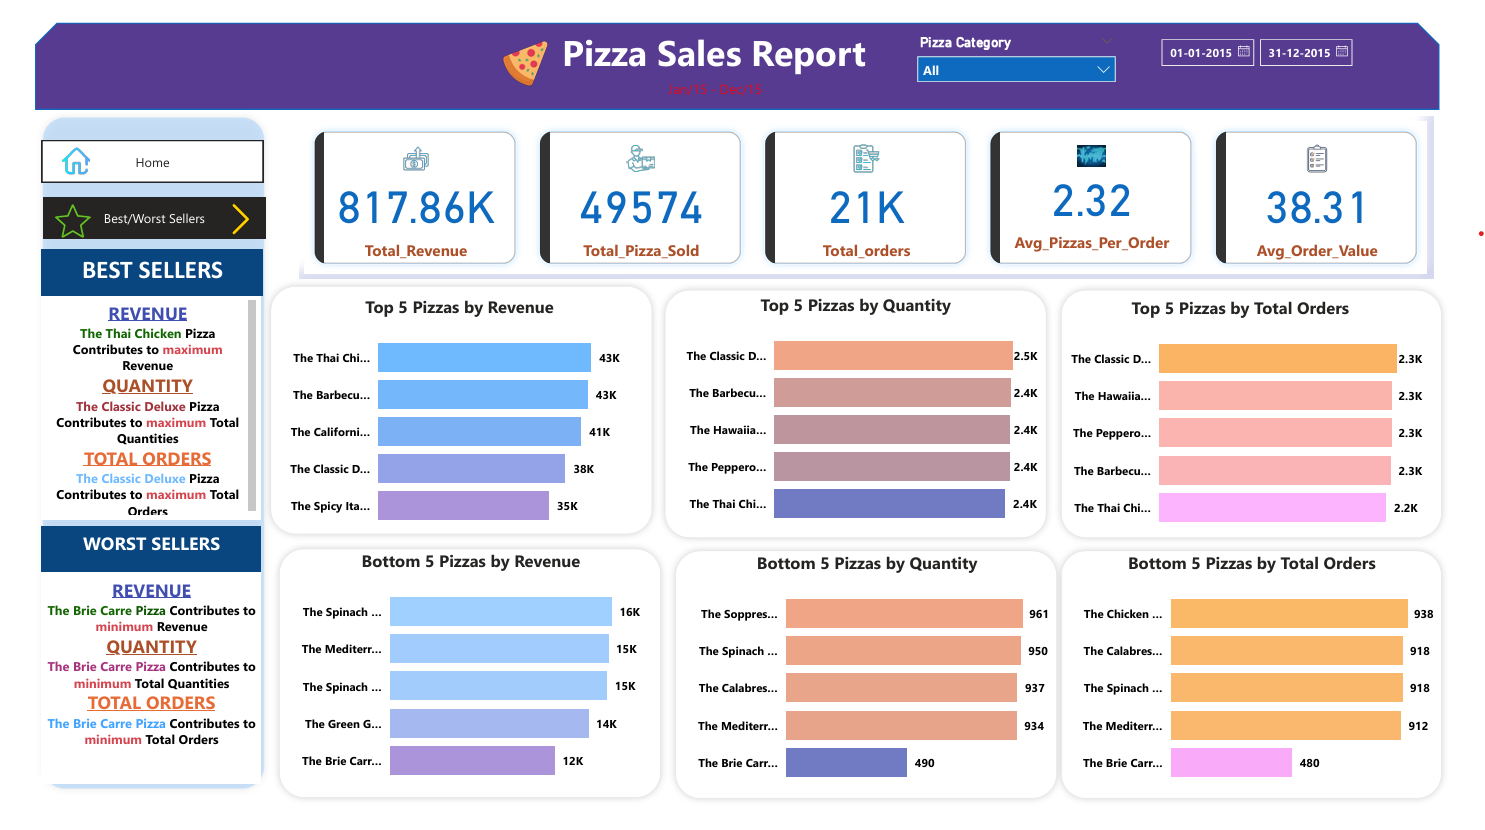

The page's visual inventory and layout, read from the dashboard file:
{"tool":"powerbi","page":{"name":"Best/Worst Sellers","canvas":[1500,820],"ordinal":1},"visuals":[{"type":"cardVisual","fields":{"Data":["pizza_sales.Total_Revenue","pizza_sales.Total_Pizza_Sold","pizza_sales.Total_orders","pizza_sales.Avg_Pizzas_Per_Order","pizza_sales.Avg_Order_Value"]},"box":[295.2,97.8,1188,170.2],"z":0},{"type":"shape","box":[18.1,0,1470.5,90.5],"z":1000},{"type":"textbox","box":[536.2,0,385.8,72.4],"z":2000},{"type":"textbox","box":[658.7,54.3,143.4,36.2],"z":3000},{"type":"image","box":[500,12.5,62.7,59.9],"z":4000},{"type":"shape","box":[257.2,268,414.7,275.3],"z":5000},{"type":"shape","box":[18.1,90.5,248.1,719],"z":15000},{"type":"textbox","box":[25.4,237.2,231.8,48.9],"z":16000},{"type":"textbox","box":[25.4,286.1,230,233.6],"z":17000},{"type":"textbox","box":[25.4,527,230,48.9],"z":18000},{"type":"textbox","box":[25.4,575.9,230,220.9],"z":19000},{"type":"slicer","fields":{"Values":["pizza_sales.pizza_category"]},"box":[931.7,7,228.4,72.4],"z":20000},{"type":"slicer","fields":{"Values":["pizza_sales.order_date"]},"box":[1185.2,7,228.4,72.4],"z":21000},{"type":"shape","box":[670.1,271.6,414.7,275.3],"z":21001},{"type":"shape","box":[266.2,543.3,414.7,275.3],"z":21002},{"type":"shape","box":[1084.8,271.6,414.7,275.3],"z":21003},{"type":"shape","box":[1084.8,545.1,414.7,275.3],"z":21004},{"type":"shape","box":[680.9,545.1,414.7,275.3],"z":21005},{"type":"barChart","title":"Top 5 Pizzas by Revenue","fields":{"Category":["pizza_sales.pizza_name"],"Y":["pizza_sales.Total_Revenue"]},"box":[266.7,284.5,391.2,258.8],"z":21006},{"type":"barChart","title":"Bottom 5 Pizzas by Revenue","fields":{"Category":["pizza_sales.pizza_name"],"Y":["pizza_sales.Total_Revenue"]},"box":[278.6,551.2,391.2,258.8],"z":21007},{"type":"barChart","title":"Top 5 Pizzas by Quantity","fields":{"Category":["pizza_sales.pizza_name"],"Y":["pizza_sales.Total_Pizza_Sold"]},"box":[681.6,282.5,391.2,258.8],"z":21008},{"type":"barChart","title":"Bottom 5 Pizzas by Quantity","fields":{"Category":["pizza_sales.pizza_name"],"Y":["pizza_sales.Total_Pizza_Sold"]},"box":[693.5,553.2,391.2,258.8],"z":21009},{"type":"barChart","title":"Top 5 Pizzas by Total Orders","fields":{"Category":["pizza_sales.pizza_name"],"Y":["pizza_sales.Total_orders"]},"box":[1084.7,286.5,391.2,258.8],"z":21010},{"type":"barChart","title":"Bottom 5 Pizzas by Total Orders","fields":{"Category":["pizza_sales.pizza_name"],"Y":["pizza_sales.Total_orders"]},"box":[1096.6,553.2,391.2,258.8],"z":21011},{"type":"pageNavigator","box":[27.2,182.9,231.8,43.5],"z":21012},{"type":"pageNavigator","box":[25.4,123.1,231.8,43.5],"z":21013},{"type":"image","box":[211.9,182.9,43.5,45.3],"z":21014},{"type":"image","box":[41.7,117.7,39.8,52.5],"z":21015},{"type":"image","box":[34.4,175.7,47.1,63.4],"z":21016}]}

Visuals, with their boxes in screenshot pixels (x1, y1, x2, y2), scaled from the page's 1500x820 canvas onto the 1485x830 screenshot:
cardVisual - pizza_sales.Total_Revenue x pizza_sales.Total_Pizza_Sold: (292,99,1468,271)
shape: (18,0,1474,92)
textbox: (531,0,913,73)
textbox: (652,55,794,92)
image: (495,13,557,73)
shape: (255,271,665,550)
shape: (18,92,264,819)
textbox: (25,240,255,290)
textbox: (25,290,253,526)
textbox: (25,533,253,583)
textbox: (25,583,253,807)
slicer - pizza_sales.pizza_category: (922,7,1148,80)
slicer - pizza_sales.order_date: (1173,7,1399,80)
shape: (663,275,1074,554)
shape: (264,550,674,829)
shape: (1074,275,1484,554)
shape: (1074,552,1484,829)
shape: (674,552,1085,829)
"Top 5 Pizzas by Revenue" barChart: (264,288,651,550)
"Bottom 5 Pizzas by Revenue" barChart: (276,558,663,820)
"Top 5 Pizzas by Quantity" barChart: (675,286,1062,548)
"Bottom 5 Pizzas by Quantity" barChart: (687,560,1074,822)
"Top 5 Pizzas by Total Orders" barChart: (1074,290,1461,552)
"Bottom 5 Pizzas by Total Orders" barChart: (1086,560,1473,822)
pageNavigator: (27,185,256,229)
pageNavigator: (25,125,255,169)
image: (210,185,253,231)
image: (41,119,81,172)
image: (34,178,81,242)
